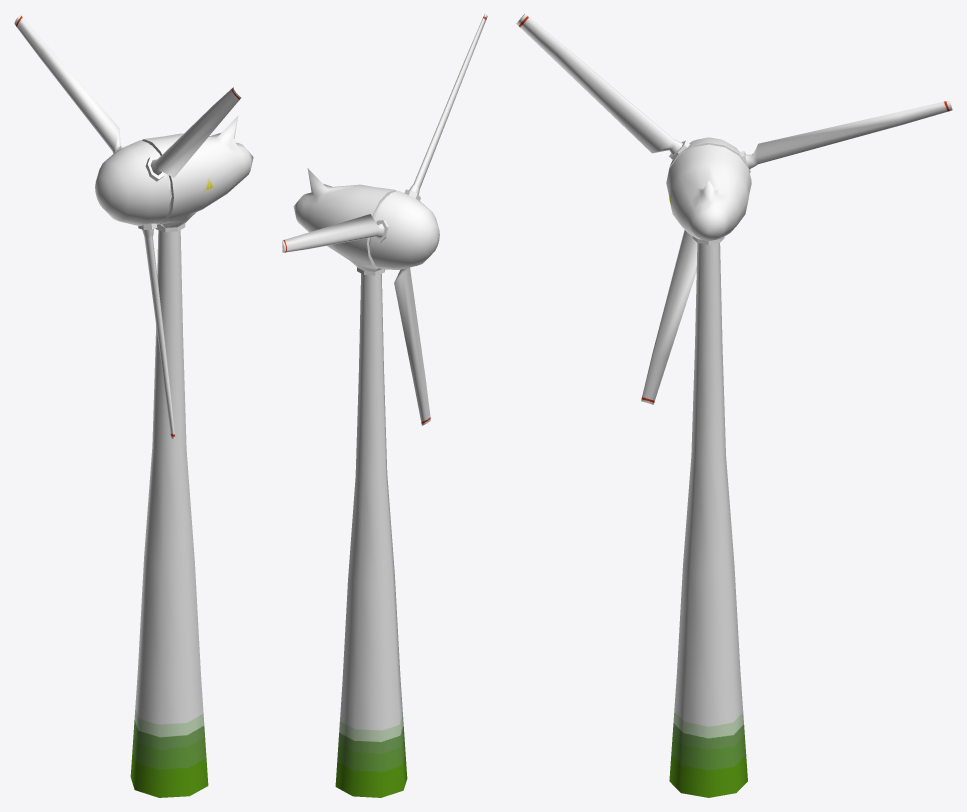
File: asset.gltf
The picture shows the model from 3 angles, left to right: view 1: azimuth 30°, elevation 25°; view 2: azimuth 150°, elevation 25°; view 3: azimuth 270°, elevation 25°; orthographic projection. The views are drawn at different scales.
Visible parts, largest first — view 1: pole, motor_2, motor_1; view 2: pole, motor_2, motor_1; view 3: pole, motor_2, motor_1.
Boxes of the visible parts, left/top/right/bottom form: pole: left=130, top=230, right=208, bottom=797; motor_2: left=14, top=14, right=241, bottom=438; motor_1: left=142, top=116, right=253, bottom=232; pole: left=335, top=273, right=407, bottom=797; motor_2: left=282, top=14, right=487, bottom=425; motor_1: left=293, top=168, right=396, bottom=275; pole: left=669, top=243, right=747, bottom=797; motor_2: left=516, top=14, right=952, bottom=404; motor_1: left=666, top=144, right=751, bottom=244.
Bounding box in the file's own units: 0.4391 × 2.09 × 1.1.
2 materials, 1 textured.
